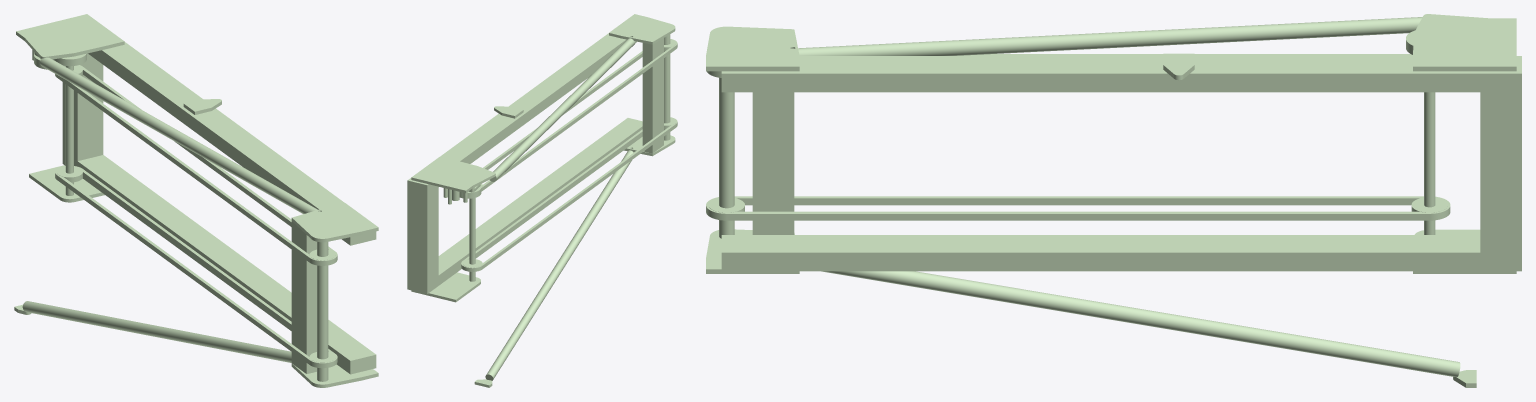
3 views of the same model, side by side, from view 1: azimuth 30°, elevation 25°; view 2: azimuth 150°, elevation 25°; view 3: azimuth 270°, elevation 25° (orthographic). The views are drawn at different scales.
Parts seen in each view (by area): view 1: Elev Base; view 2: Elev Base; view 3: Elev Base.
Part boxes in pixels (<box>): Elev Base: <box>14,14,378,387</box>; Elev Base: <box>407,14,677,387</box>; Elev Base: <box>706,14,1521,387</box>.
Bounding box in the file's own units: 0.1968 × 0.4953 × 0.9969.
